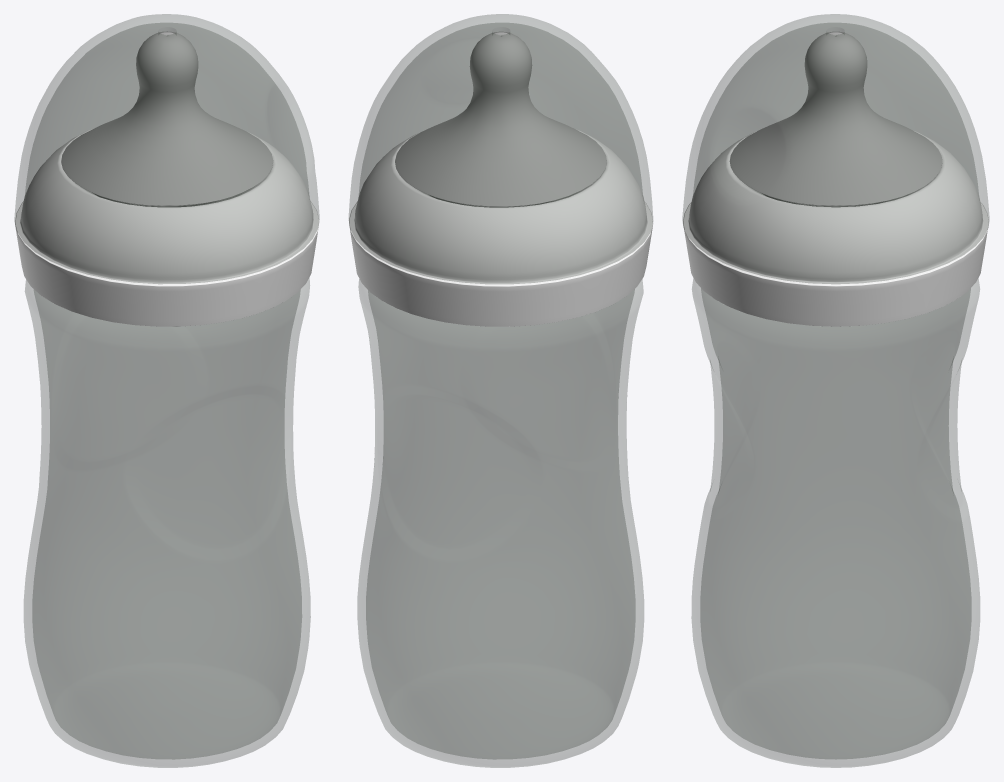
Rendered from Bottle_8.glb.
The picture shows the model from 3 angles, left to right: view 1: azimuth 30°, elevation 25°; view 2: azimuth 150°, elevation 25°; view 3: azimuth 270°, elevation 25°; orthographic projection.
Parts seen in each view (by area): view 1: SCF053_18; view 2: SCF053_18; view 3: SCF053_18.
Boxes of the visible parts, left/top/right/bottom form: SCF053_18: left=14, top=14, right=319, bottom=767; SCF053_18: left=348, top=14, right=653, bottom=767; SCF053_18: left=682, top=14, right=989, bottom=767.
Bounding box in the file's own units: 0.0703 × 0.1756 × 0.0707.
Materials: 3 (1 with a texture image).
